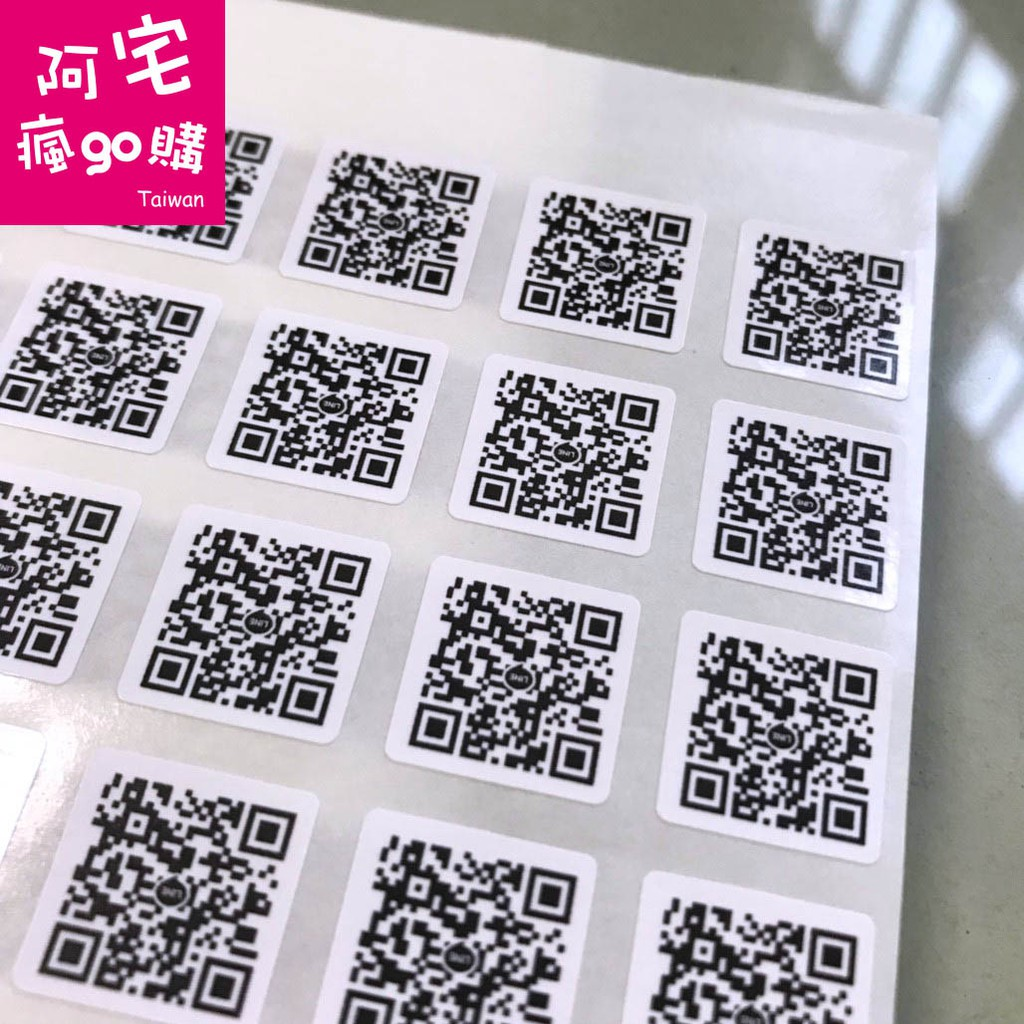QRCode: (36, 773, 297, 1019), (141, 521, 371, 727), (410, 575, 626, 791), (680, 632, 880, 846), (229, 321, 430, 492), (2, 276, 202, 442), (471, 366, 659, 540), (712, 413, 891, 594), (300, 150, 482, 297), (739, 229, 904, 389), (518, 191, 691, 337)
